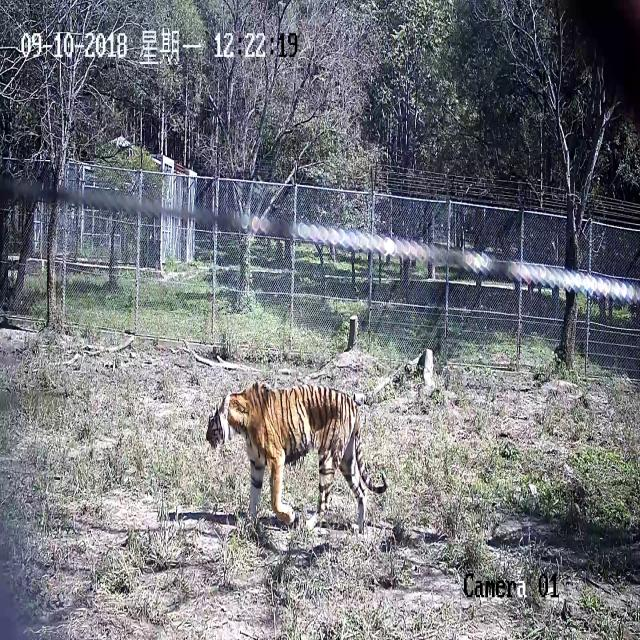Tiger: (185, 350, 405, 556)
